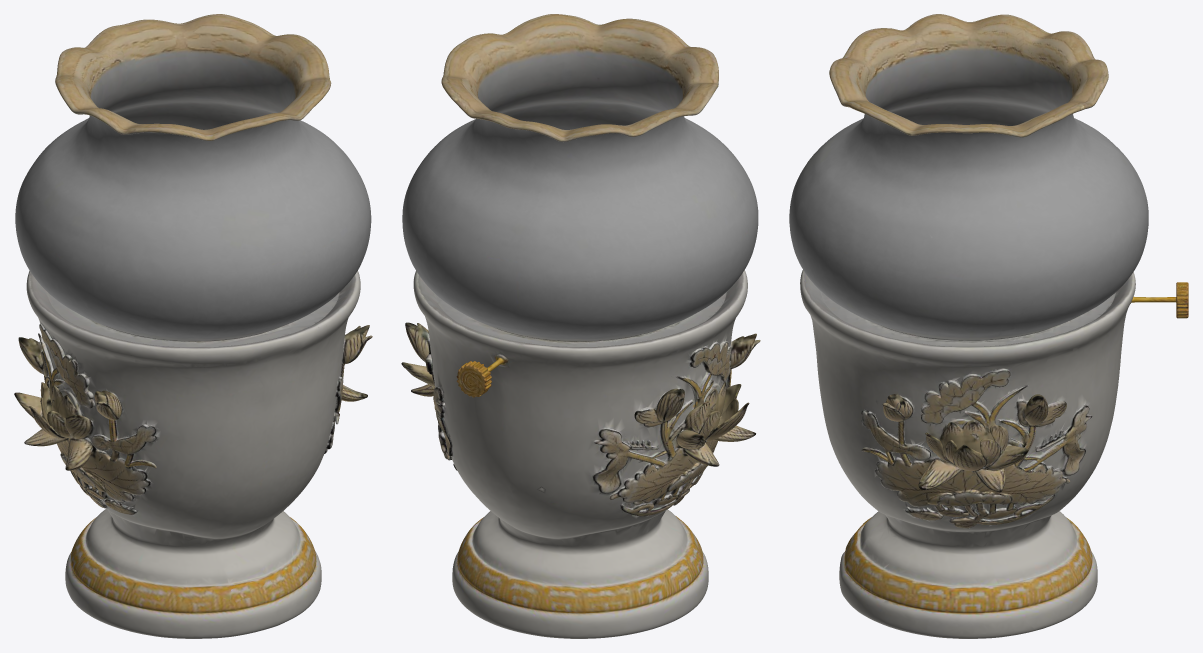
Rendered from ornate glass oil lamp 3d model.glb.
The picture shows the model from 3 angles, left to right: view 1: azimuth 30°, elevation 25°; view 2: azimuth 150°, elevation 25°; view 3: azimuth 270°, elevation 25°; orthographic projection.
Visible parts, largest first — view 1: tripo_node_ca7f4179-7208-4259-9ea0-0c607106fb0a; view 2: tripo_node_ca7f4179-7208-4259-9ea0-0c607106fb0a; view 3: tripo_node_ca7f4179-7208-4259-9ea0-0c607106fb0a.
Part boxes in pixels (bbox=[...]): tripo_node_ca7f4179-7208-4259-9ea0-0c607106fb0a: bbox=[14, 14, 372, 638]; tripo_node_ca7f4179-7208-4259-9ea0-0c607106fb0a: bbox=[401, 14, 760, 638]; tripo_node_ca7f4179-7208-4259-9ea0-0c607106fb0a: bbox=[789, 14, 1188, 638].
Size of the model in its own units: 0.6729 by 1 by 0.7003.
Materials: 1 (1 with a texture image).
